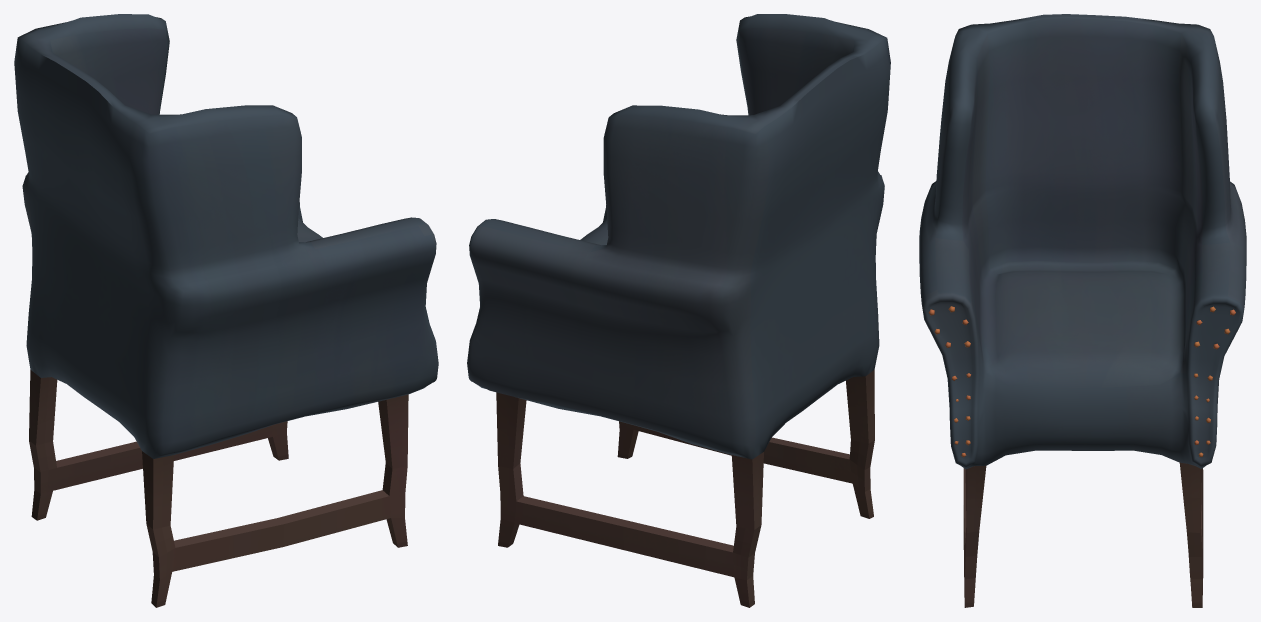
File: Chair.fbx
3 renders of one model, left to right at view 1: azimuth 30°, elevation 25°; view 2: azimuth 150°, elevation 25°; view 3: azimuth 270°, elevation 25°, orthographic. The views are drawn at different scales.
Visible parts, largest first — view 1: Cube.009; view 2: Cube.009; view 3: Cube.009.
Boxes of the visible parts, x1,y1,x2,y2 form: Cube.009: (14, 14, 438, 607); Cube.009: (467, 14, 890, 607); Cube.009: (919, 14, 1246, 607).
Bounding box in the file's own units: 198 × 312 × 197.
